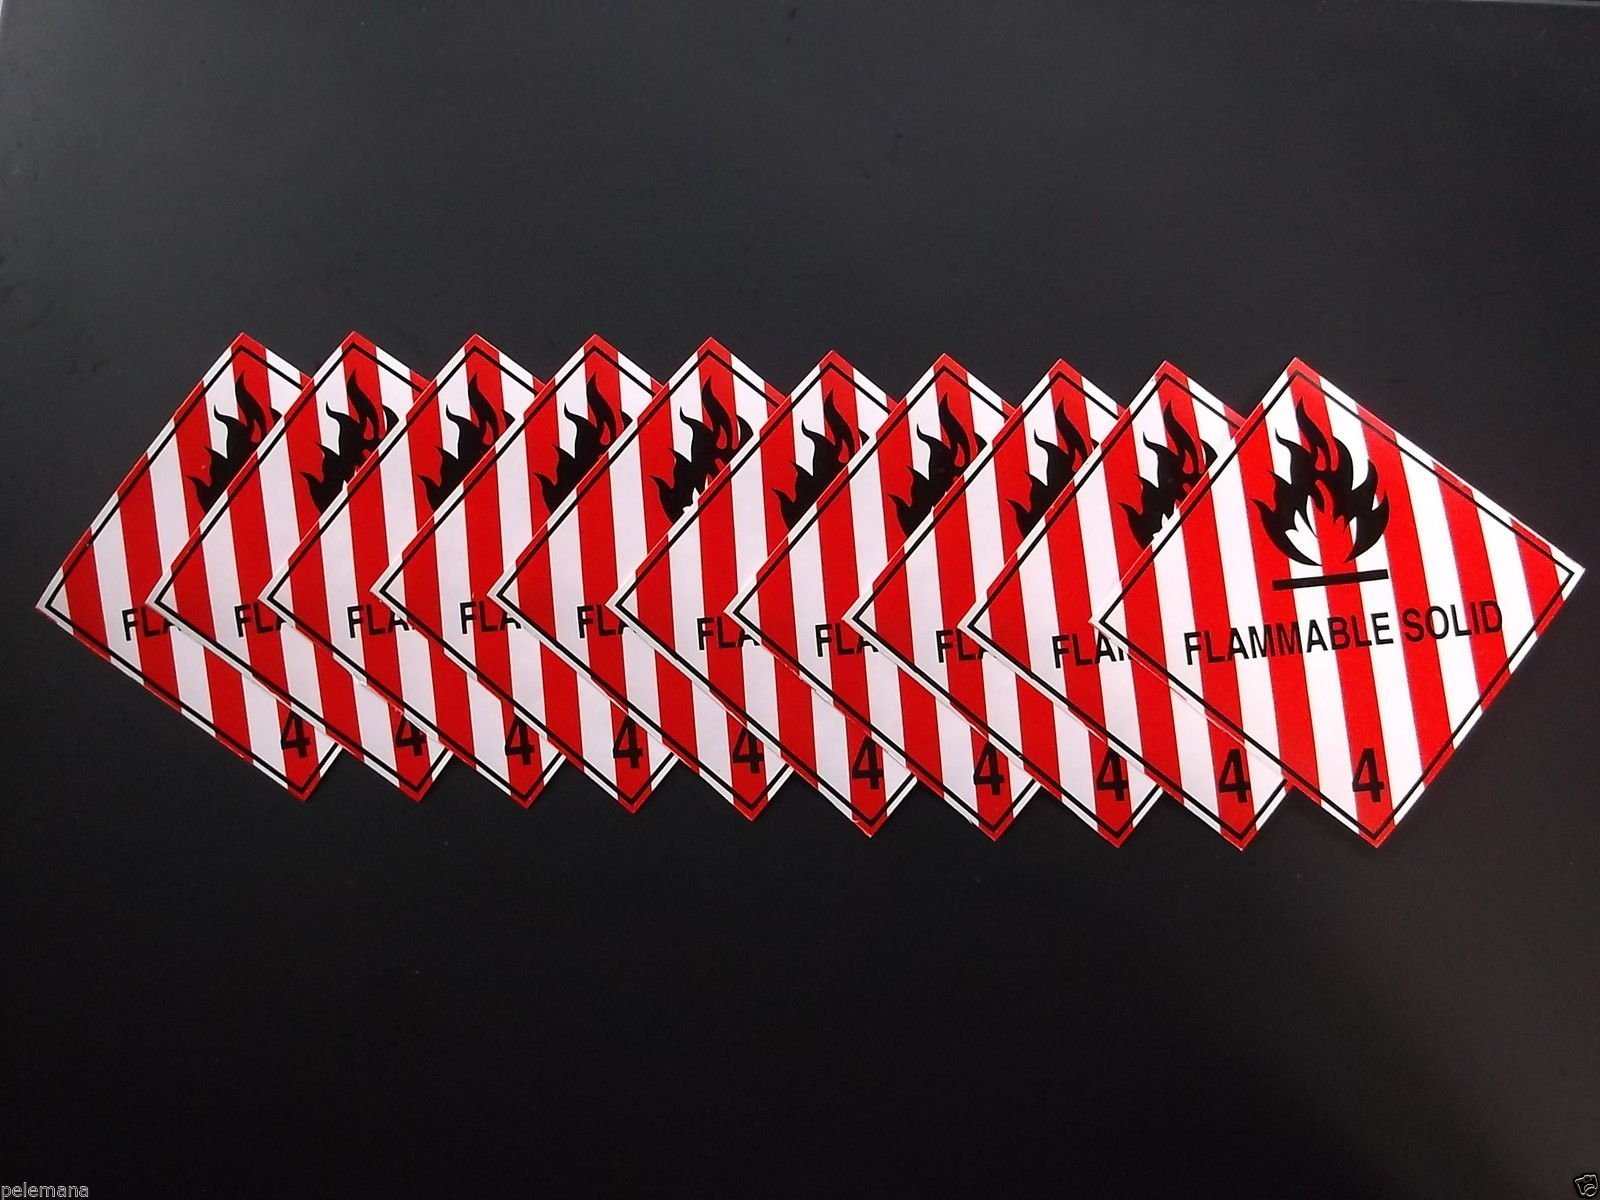FlammableSolid: (1162, 376, 1587, 855)
